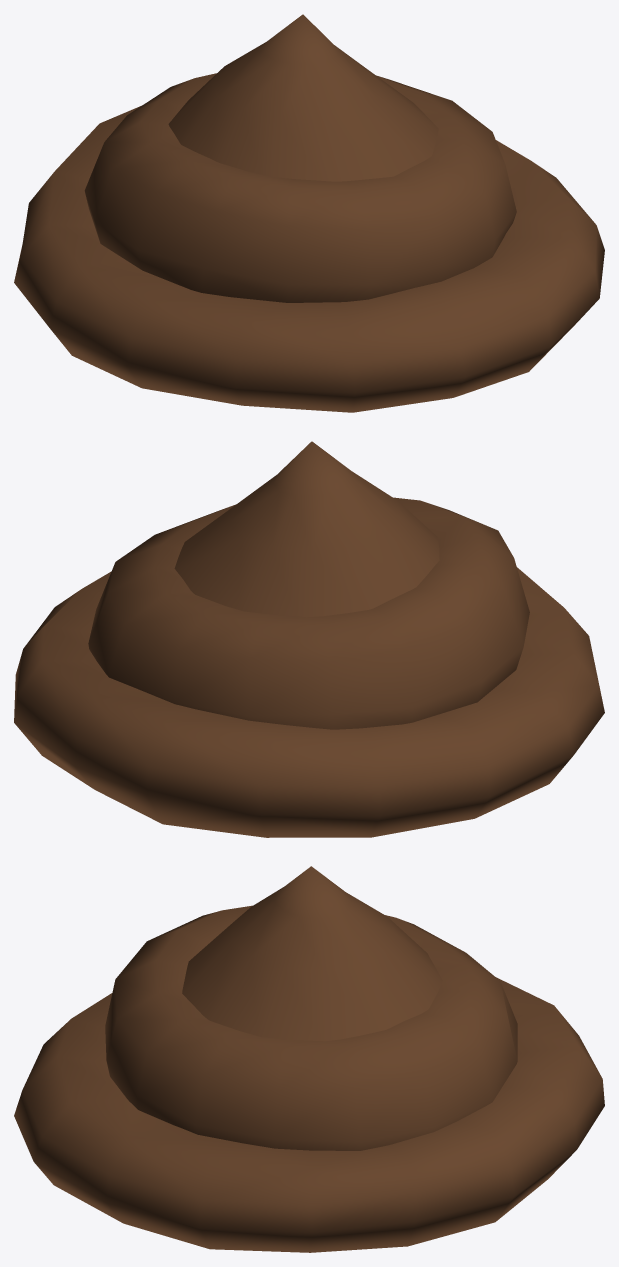
The model's file is SM_Poop_01.fbx.
3 views of the same model, one above another, from view 1: azimuth 30°, elevation 25°; view 2: azimuth 150°, elevation 25°; view 3: azimuth 270°, elevation 25° (orthographic). The views are drawn at different scales.
Visible parts, largest first — view 1: SM_Dog_Poop; view 2: SM_Dog_Poop; view 3: SM_Dog_Poop.
Boxes of the visible parts, x1=… form: SM_Dog_Poop: x1=14, y1=14, x2=604, y2=412; SM_Dog_Poop: x1=14, y1=441, x2=604, y2=837; SM_Dog_Poop: x1=14, y1=866, x2=604, y2=1252.
Bounding box in the file's own units: 1.89 × 0.9949 × 1.93.
